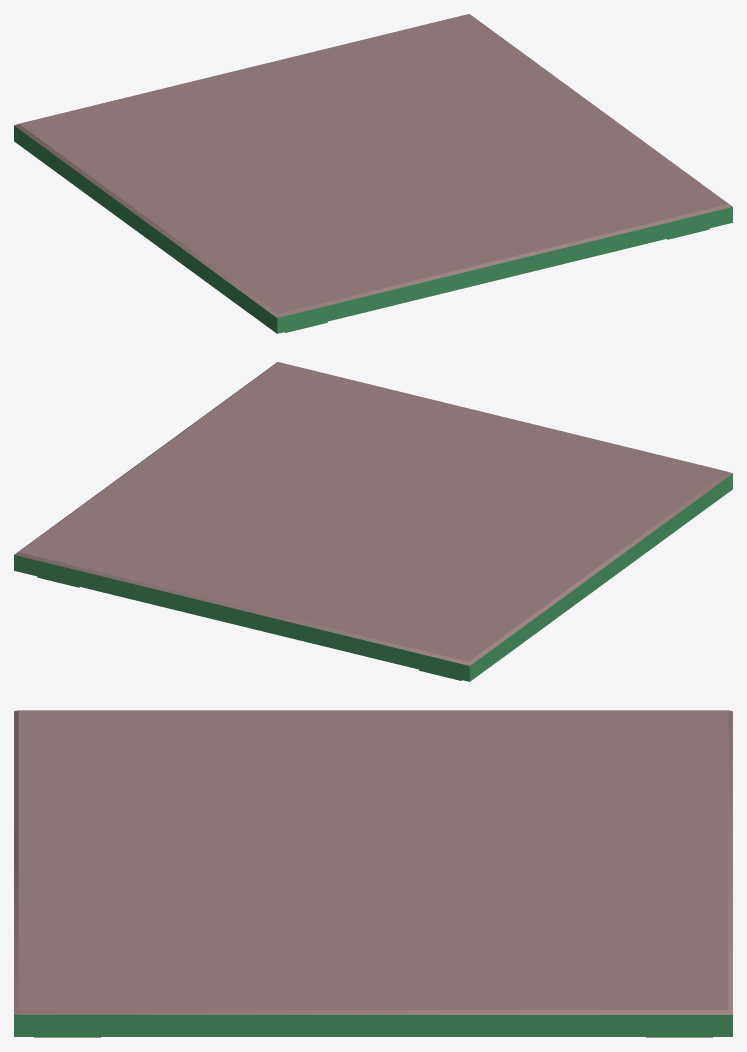
The model's file is sidewalk tile default lod0.FBX.
The picture shows the model from 3 angles, top to bottom: view 1: azimuth 30°, elevation 25°; view 2: azimuth 150°, elevation 25°; view 3: azimuth 270°, elevation 25°; orthographic projection. The views are drawn at different scales.
Parts seen in each view (by area): view 1: Plane045; view 2: Plane045; view 3: Plane045.
Part boxes in pixels (x1,y1,x2,y2): Plane045: [14, 14, 732, 333]; Plane045: [14, 362, 732, 681]; Plane045: [14, 710, 732, 1037].
Bounding box in the file's own units: 3 × 0.1665 × 3.
